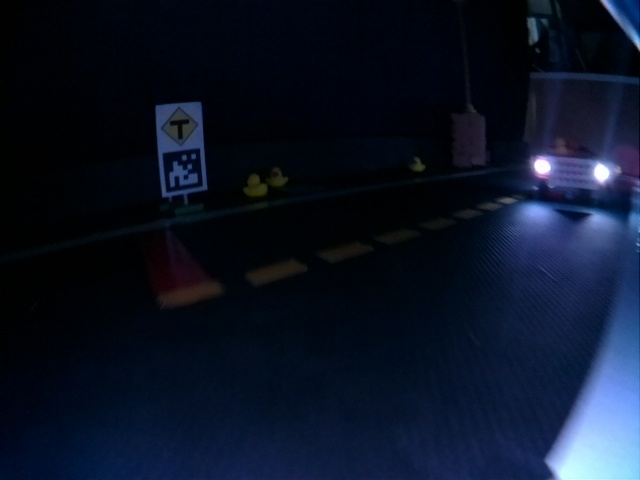Duckie: (244, 175, 265, 197), (270, 169, 287, 186), (413, 156, 425, 171)
Duckiebot: (532, 152, 614, 198)
Intersection sign: (159, 106, 200, 146)
QR code: (161, 147, 204, 194)
